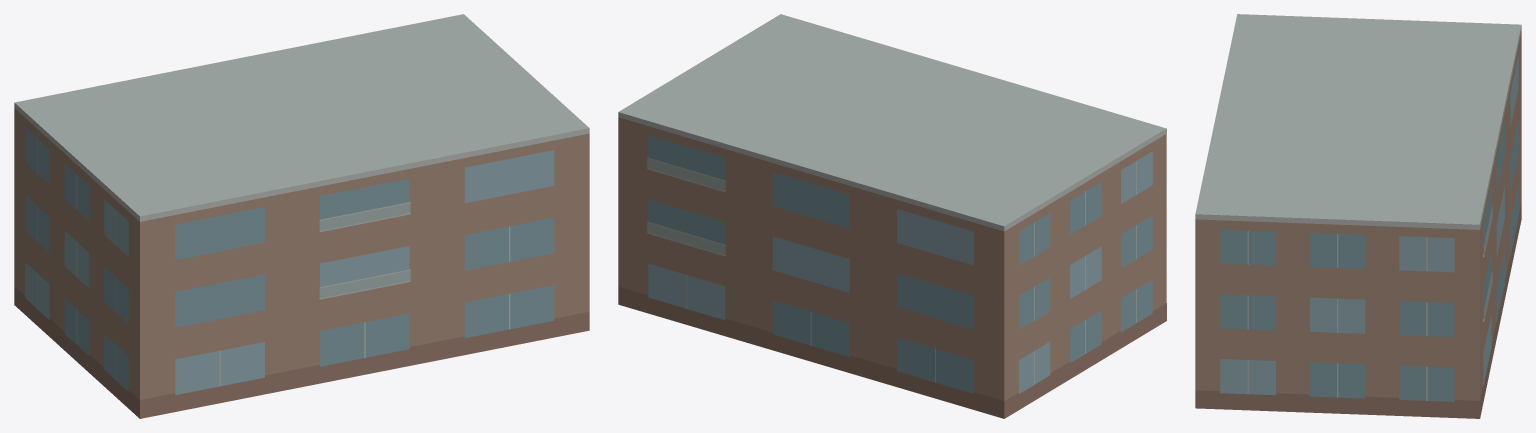
The model's file is survey-upis-32777634.glb.
The picture shows the model from 3 angles, left to right: view 1: azimuth 30°, elevation 25°; view 2: azimuth 150°, elevation 25°; view 3: azimuth 270°, elevation 25°; orthographic projection. The views are drawn at different scales.
Parts seen in each view (by area): view 1: survey-upis-32777634.tmp; view 2: survey-upis-32777634.tmp; view 3: survey-upis-32777634.tmp.
Part boxes in pixels (x1=…): survey-upis-32777634.tmp: x1=14, y1=14, x2=589, y2=418; survey-upis-32777634.tmp: x1=618, y1=14, x2=1166, y2=418; survey-upis-32777634.tmp: x1=1195, y1=14, x2=1521, y2=418.
Bounding box in the file's own units: 21.31 × 9.15 × 13.95.
